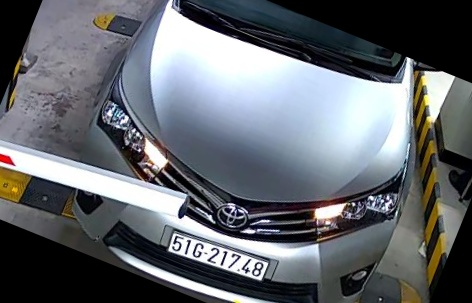plate: (148, 217, 274, 284)
